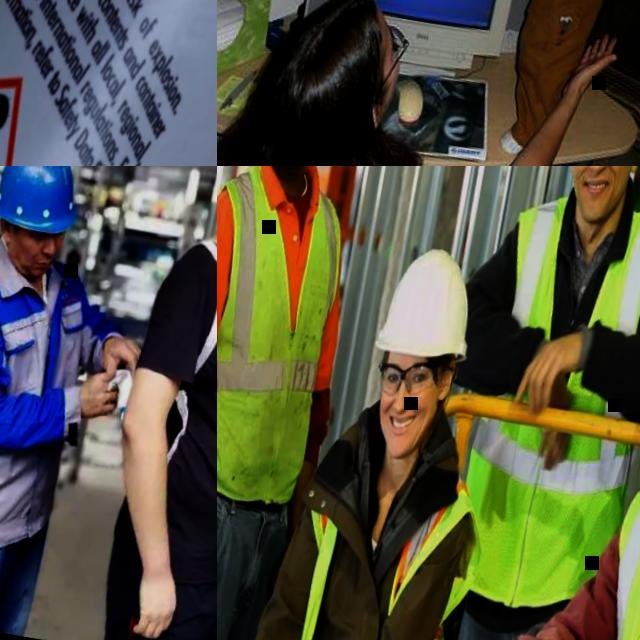Hardhat: (373, 236, 486, 371), (0, 166, 97, 242)
NO-Hardhat: (252, 0, 393, 145)
NO-Mask: (565, 166, 628, 228), (375, 402, 433, 463), (372, 55, 406, 124), (16, 250, 53, 282)
NO-Safety Vest: (119, 238, 217, 593), (0, 254, 101, 548)
Person: (387, 166, 640, 640), (243, 225, 525, 640), (217, 166, 404, 640), (0, 166, 178, 640), (217, 0, 622, 166), (77, 166, 217, 640), (498, 190, 640, 640), (442, 0, 640, 166)
Safety Vest: (440, 183, 640, 618), (217, 166, 355, 514), (282, 452, 497, 640)
